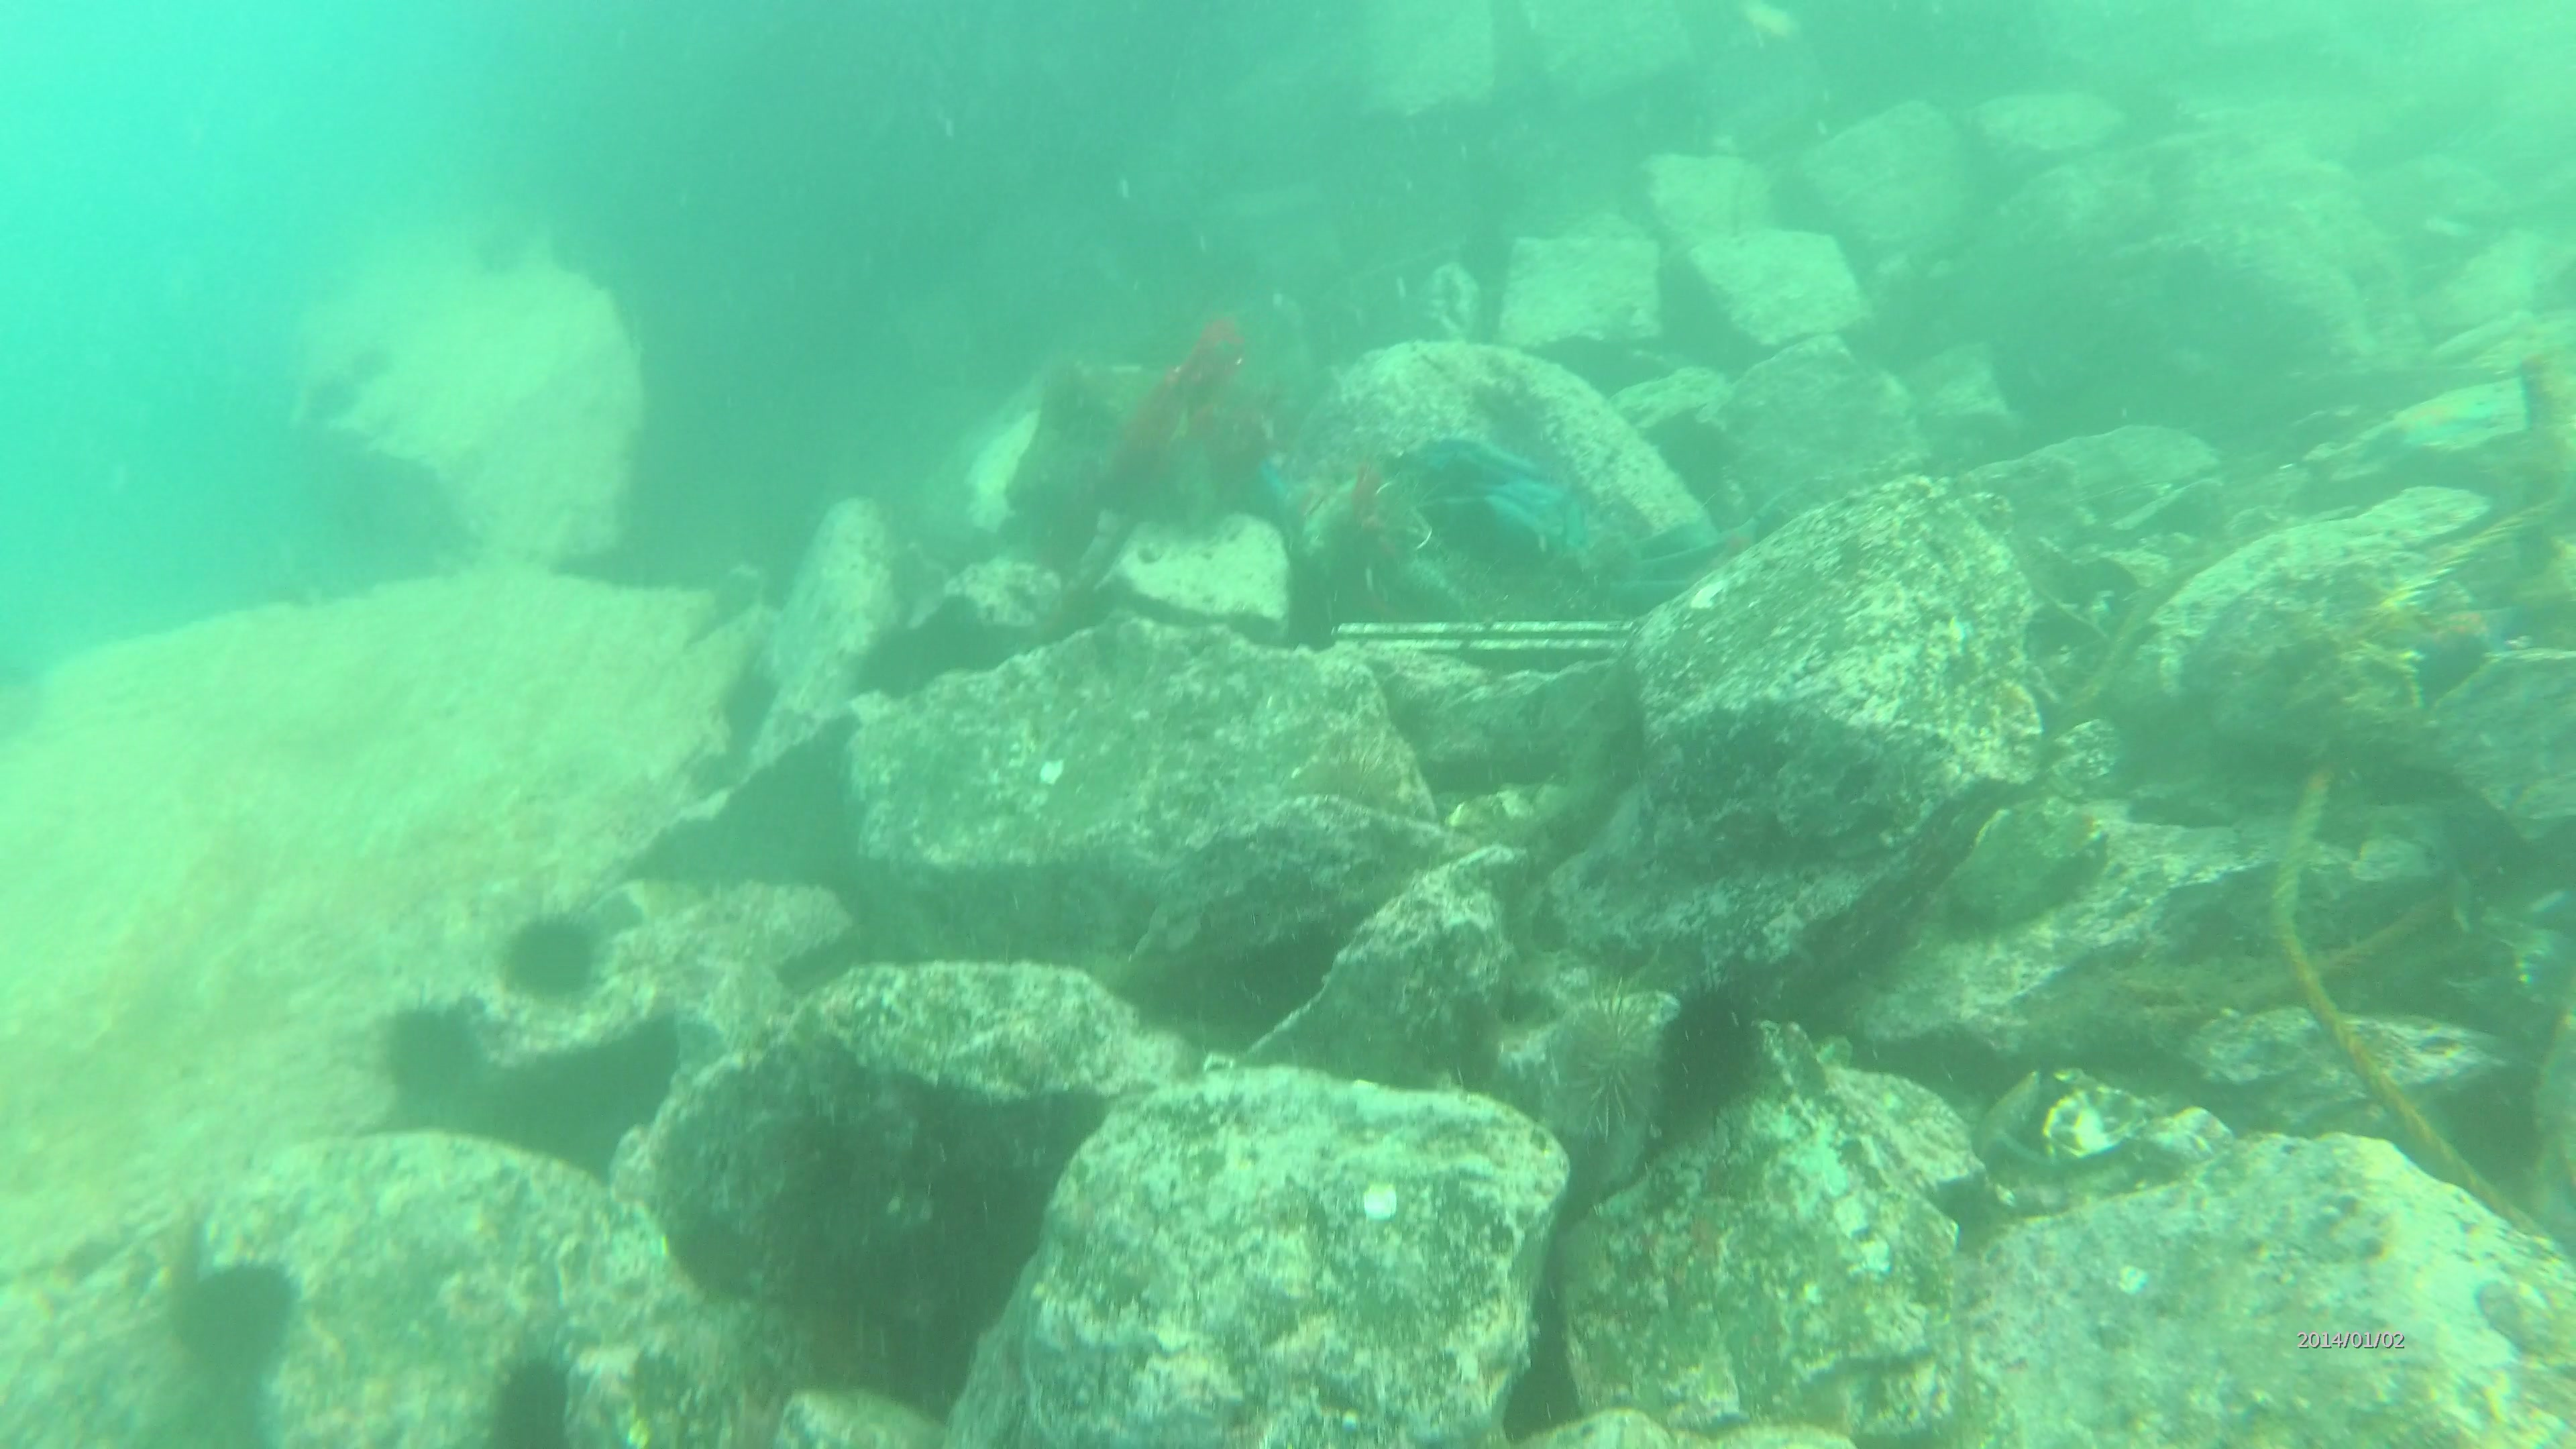echinus: (1552, 977, 1674, 1120), (172, 1261, 299, 1371), (1668, 975, 1767, 1115), (373, 994, 490, 1102), (499, 906, 605, 1005), (490, 1348, 584, 1449)
starfish: (2396, 577, 2518, 672)
